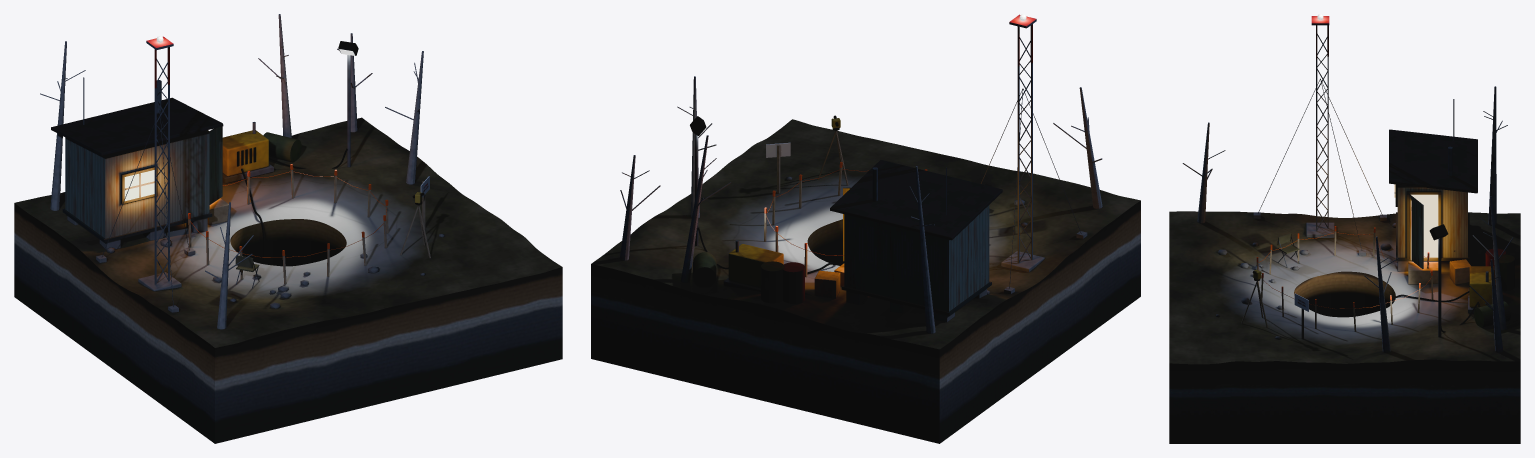
Rendered from station.glb.
The picture shows the model from 3 angles, left to right: view 1: azimuth 30°, elevation 25°; view 2: azimuth 150°, elevation 25°; view 3: azimuth 270°, elevation 25°; orthographic projection. The views are drawn at different scales.
Parts seen in each view (by area): view 1: station; view 2: station; view 3: station.
Boxes of the visible parts, left/top/right/bottom form: station: left=14, top=14, right=562, bottom=443; station: left=591, top=14, right=1140, bottom=443; station: left=1169, top=14, right=1520, bottom=443.
Size of the model in its own units: 10 by 9.27 by 10.
1 material, 1 textured.
